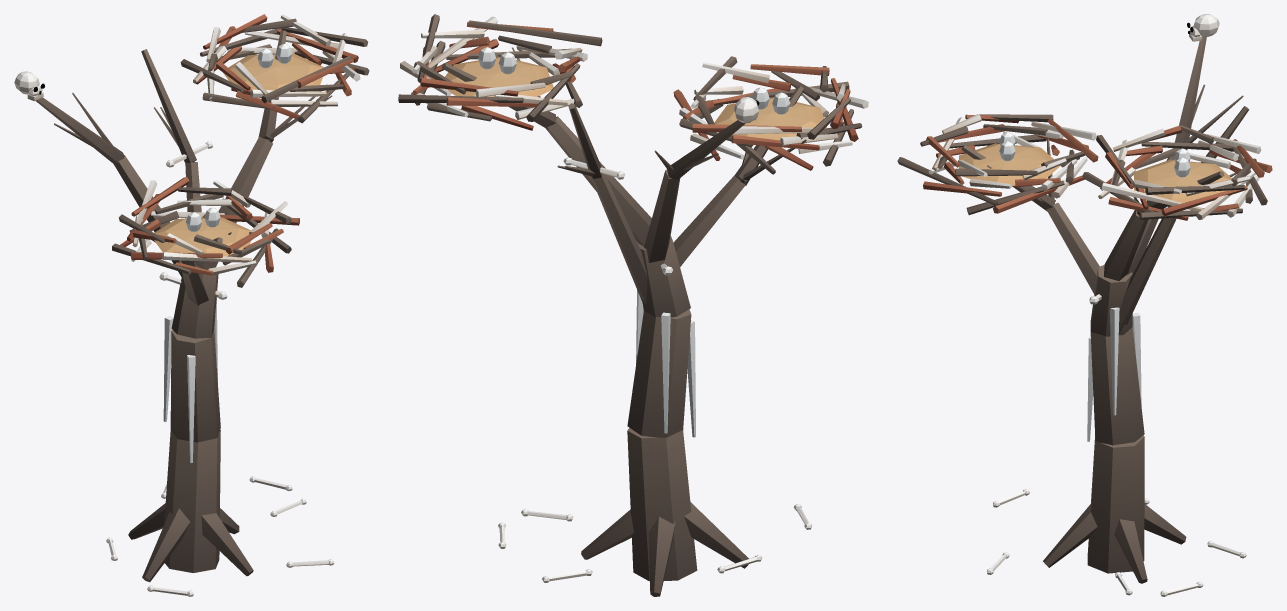
Rendered from vulture_perch.glb.
3 renders of one model, left to right at view 1: azimuth 30°, elevation 25°; view 2: azimuth 150°, elevation 25°; view 3: azimuth 270°, elevation 25°, orthographic. The views are drawn at different scales.
Visible parts, largest first — view 1: vulture_perch; view 2: vulture_perch; view 3: vulture_perch.
Boxes of the visible parts, box(x1,y1,x2,y2) form: vulture_perch: box(14, 14, 369, 596); vulture_perch: box(398, 14, 868, 596); vulture_perch: box(897, 14, 1272, 596).
Bounding box in the file's own units: 4.53 × 6.52 × 4.53.
Materials: 1 (1 with a texture image).
